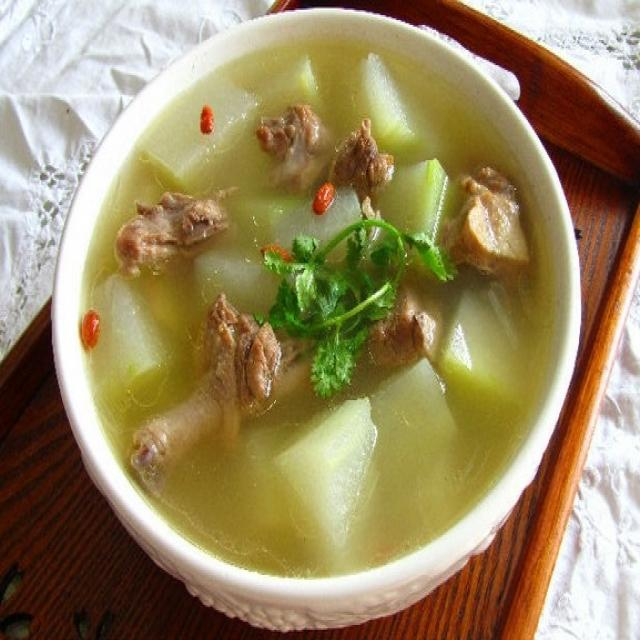汤锅炖物: (38, 10, 596, 613)
